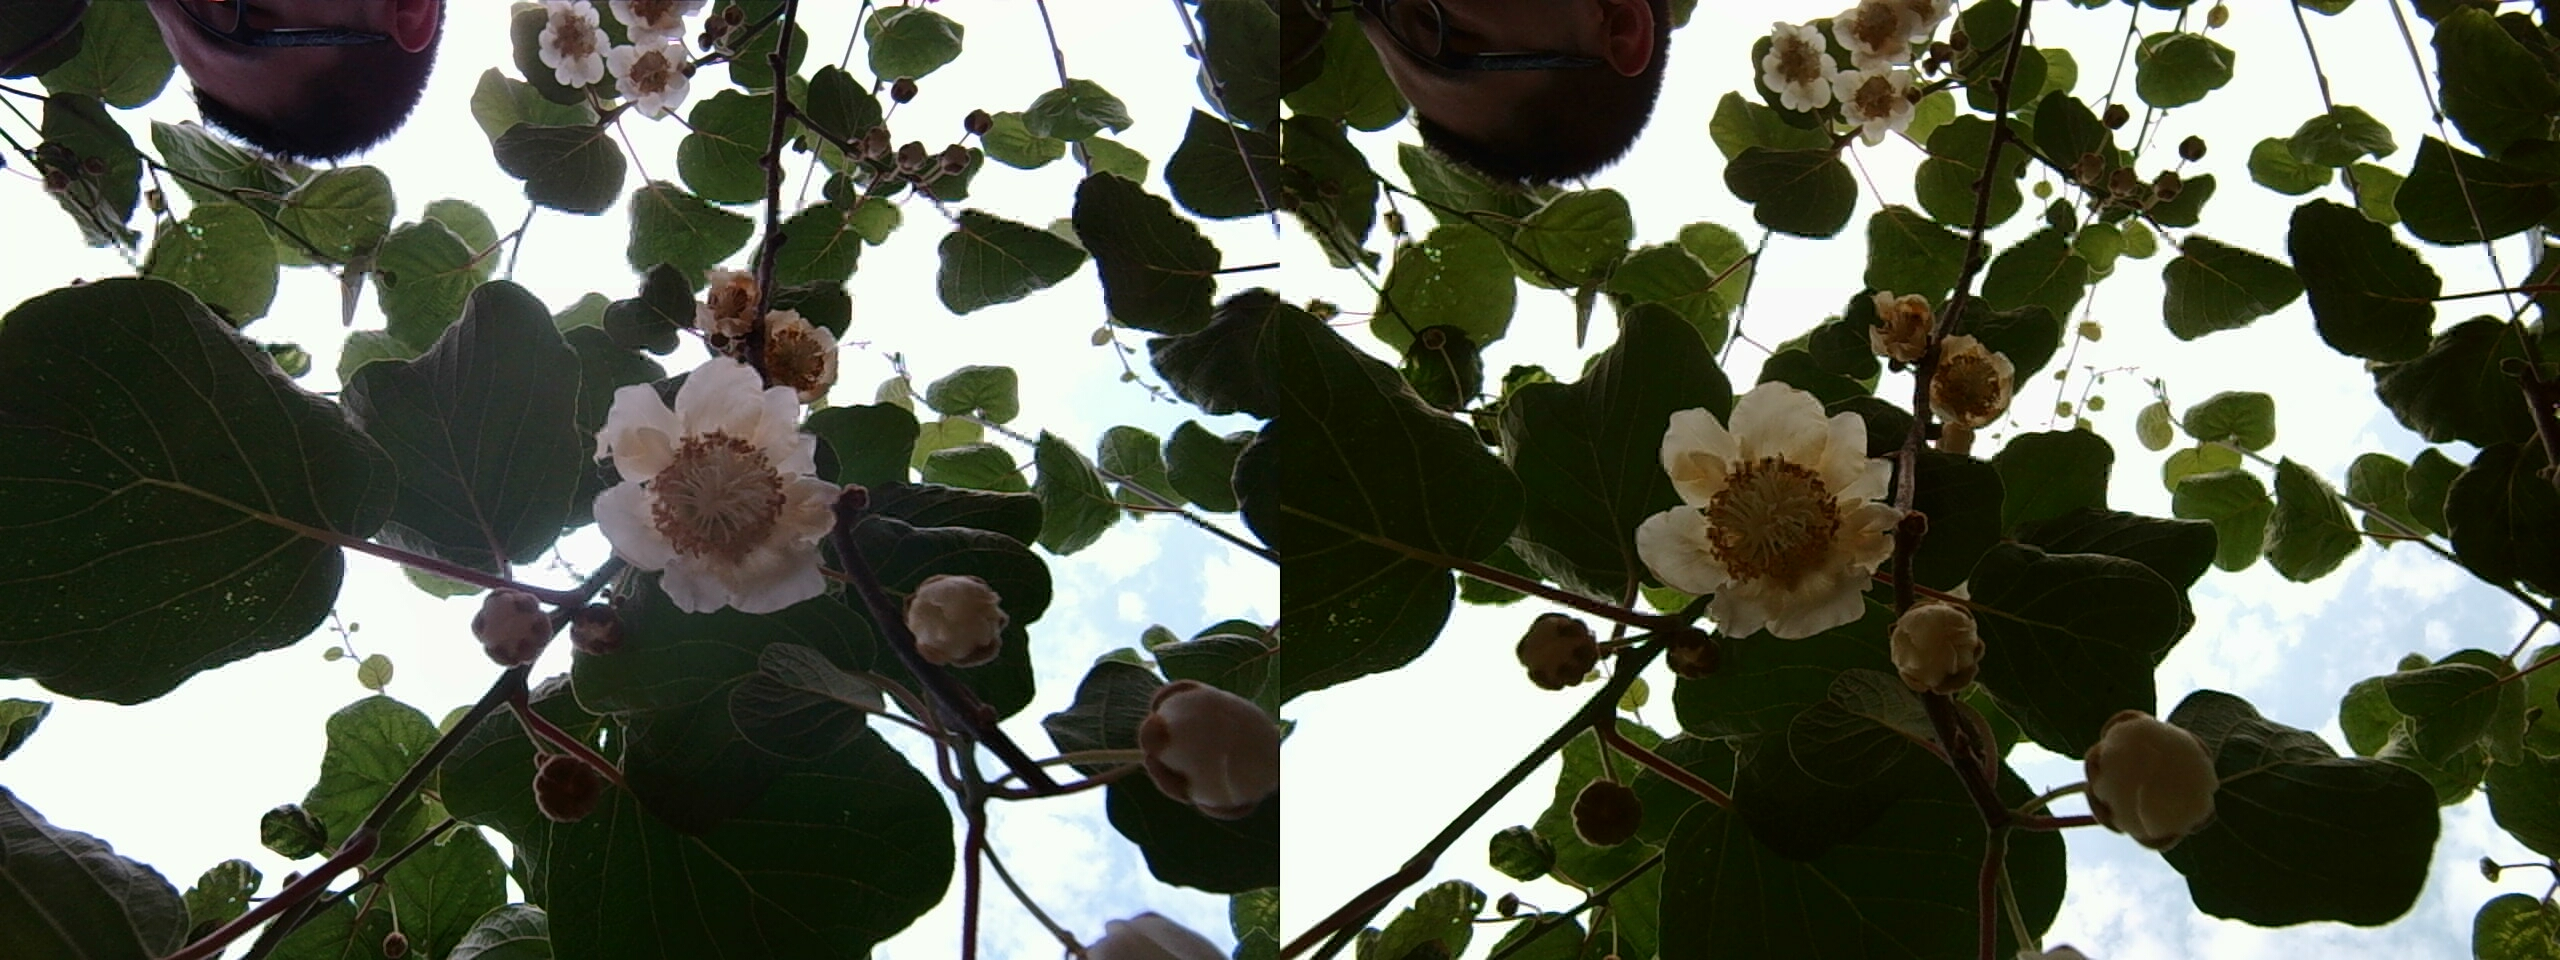flower: (578, 354, 851, 611), (1634, 380, 1904, 633), (473, 10, 673, 188), (1721, 13, 1918, 162)
